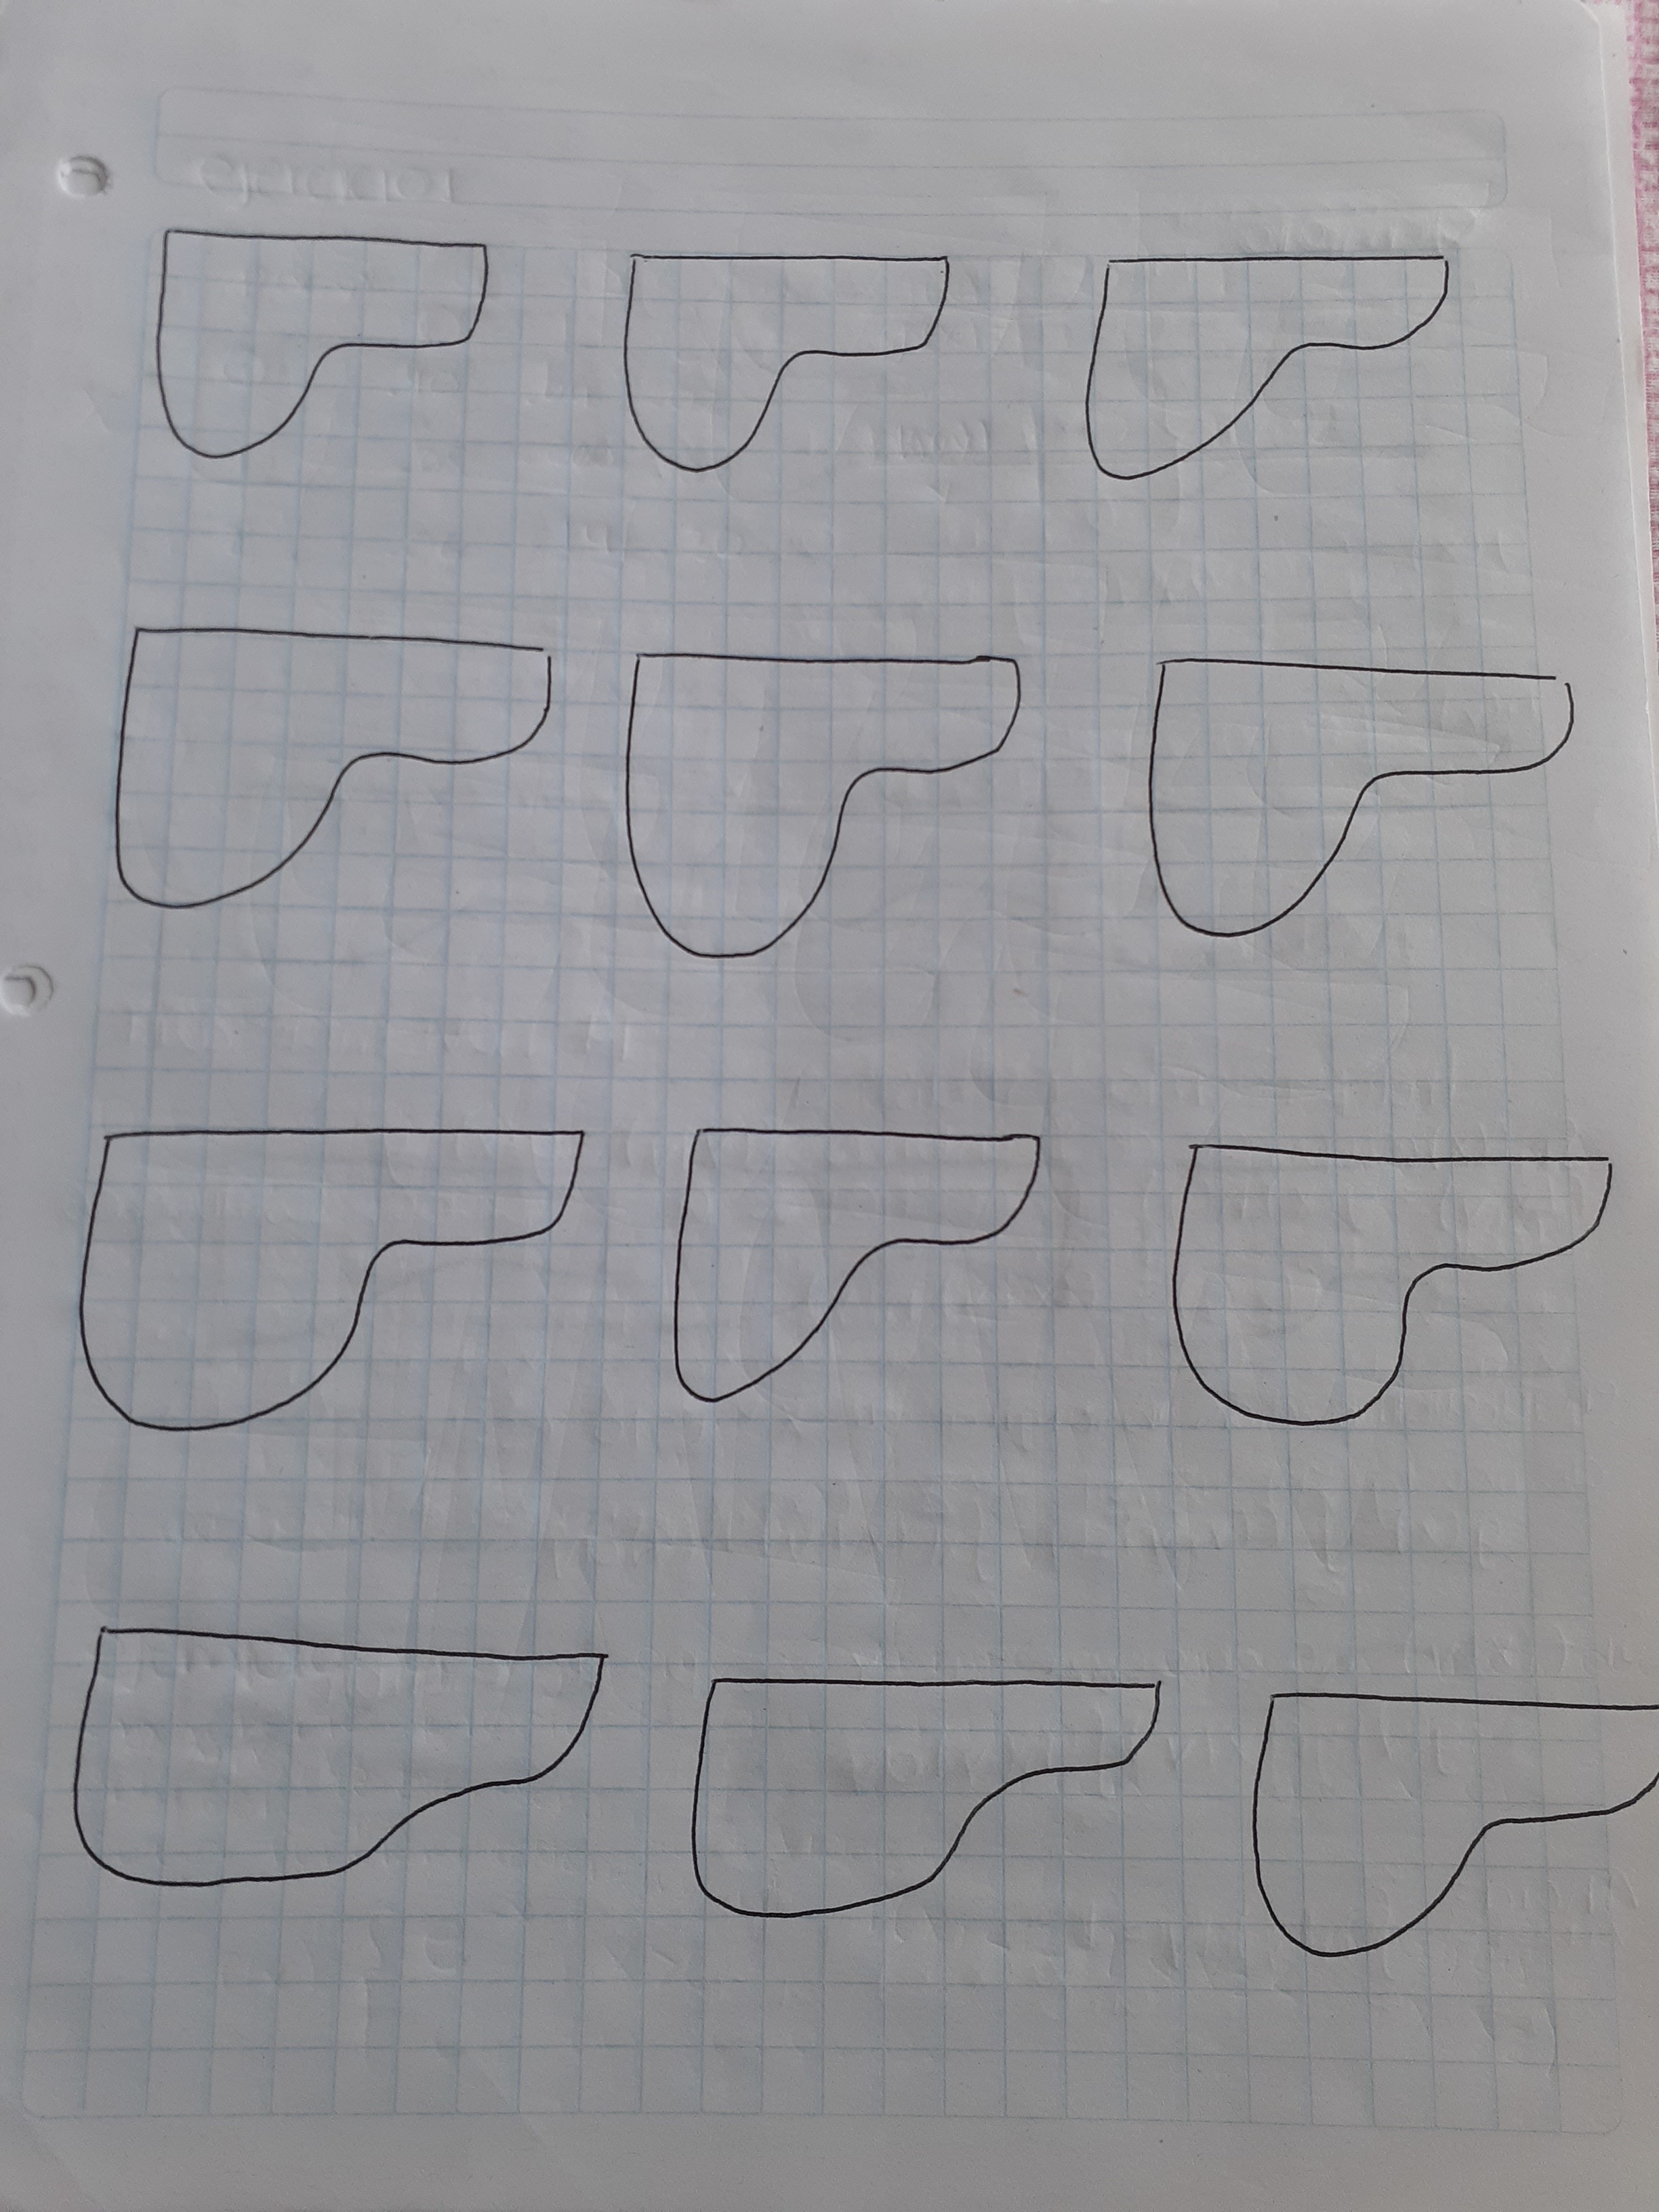print: (42, 1583, 638, 1959), (52, 1096, 601, 1496), (1108, 611, 1596, 963), (659, 1622, 1197, 1940), (92, 594, 563, 937), (1154, 1106, 1631, 1439), (606, 618, 1033, 963), (1244, 1634, 1659, 1975), (1044, 185, 1481, 500), (641, 1099, 1068, 1414), (125, 195, 523, 496), (601, 202, 969, 507)
